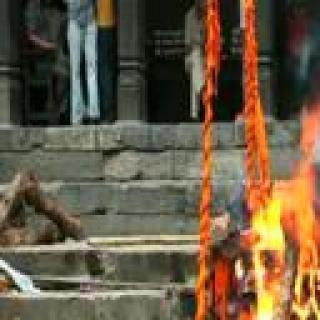fire: (241, 175, 320, 320)
